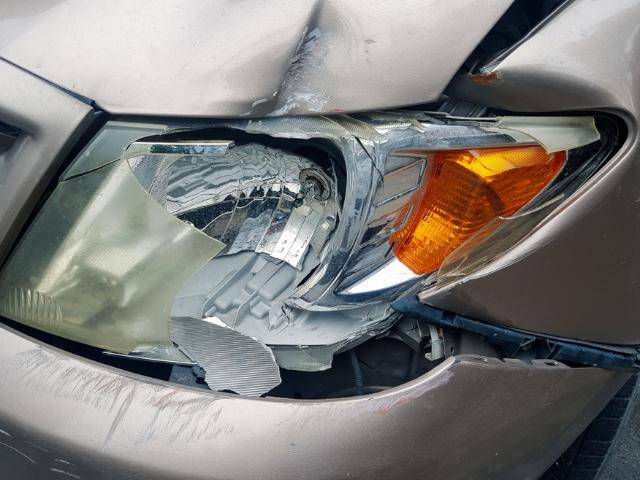Bonnet: (176, 4, 480, 115)
Bumper: (14, 346, 623, 480)
Light: (50, 130, 510, 377)
